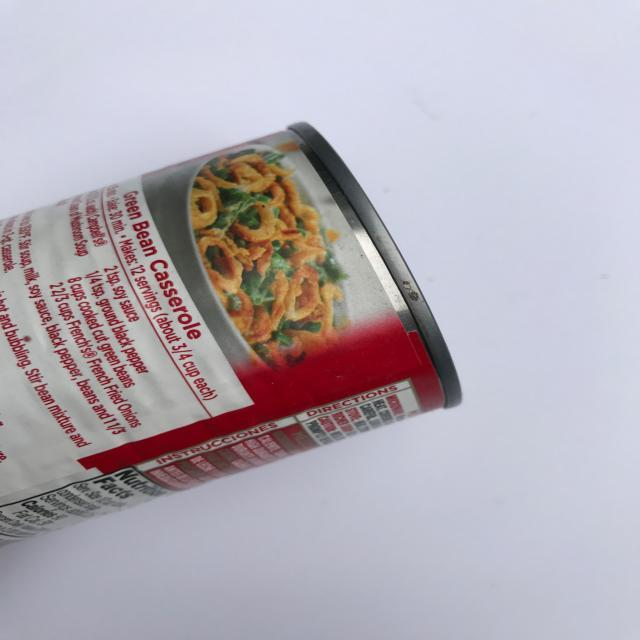metal: (3, 119, 463, 548)
